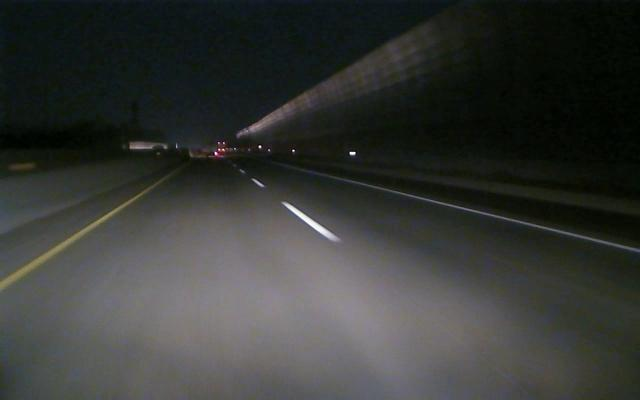lane: (331, 176, 639, 254), (2, 192, 143, 290), (250, 178, 342, 242)
